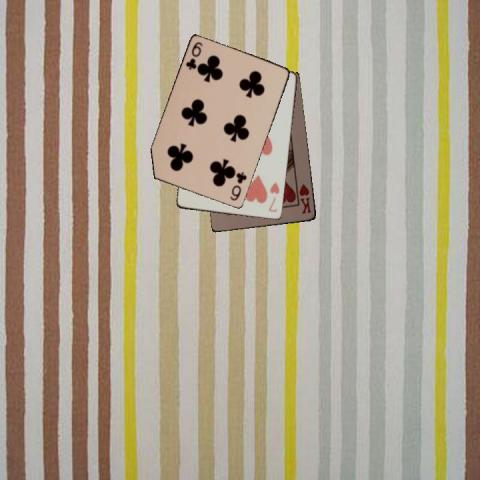6c: (227, 169, 248, 202), (183, 40, 204, 72)
7h: (265, 180, 281, 214)
Kh: (296, 181, 313, 215)
